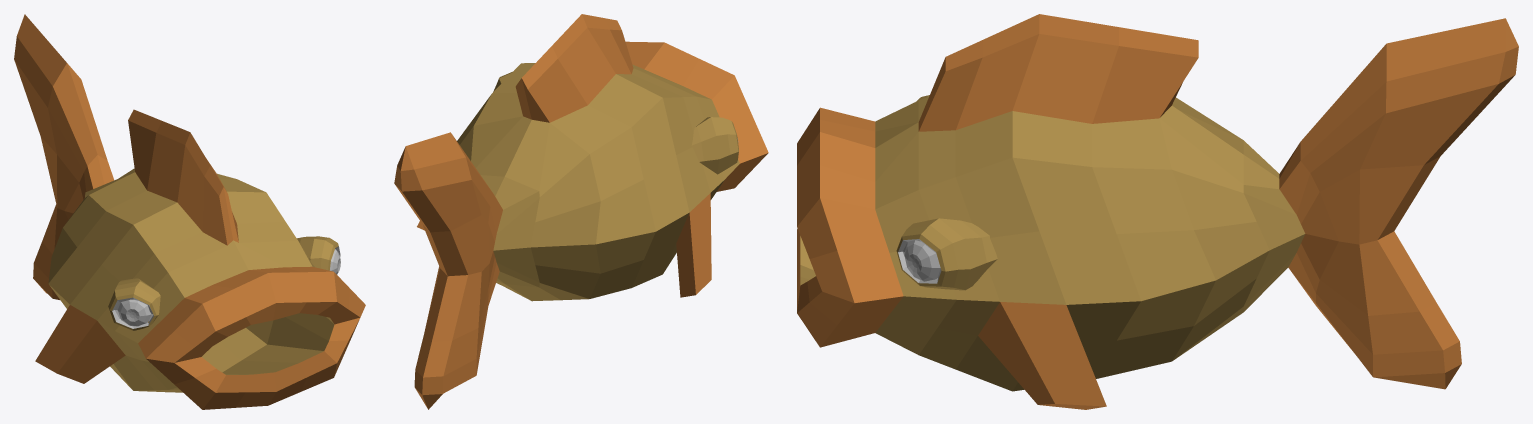
The model's file is Fish.fbx.
3 views of the same model, side by side, from view 1: azimuth 30°, elevation 25°; view 2: azimuth 150°, elevation 25°; view 3: azimuth 270°, elevation 25° (orthographic). The views are drawn at different scales.
Visible parts, largest first — view 1: pPlane3, EyeLid1; view 2: pPlane3, EyeLid1; view 3: pPlane3, EyeLid1.
Part boxes in pixels (box(x1,y1,x2,y2)): pPlane3: box(14, 14, 365, 409); EyeLid1: box(108, 236, 340, 330); pPlane3: box(394, 14, 768, 409); EyeLid1: box(493, 71, 738, 174); pPlane3: box(797, 14, 1518, 409); EyeLid1: box(896, 95, 997, 290).
Bounding box in the file's own units: 2.19 × 2.13 × 3.71.
